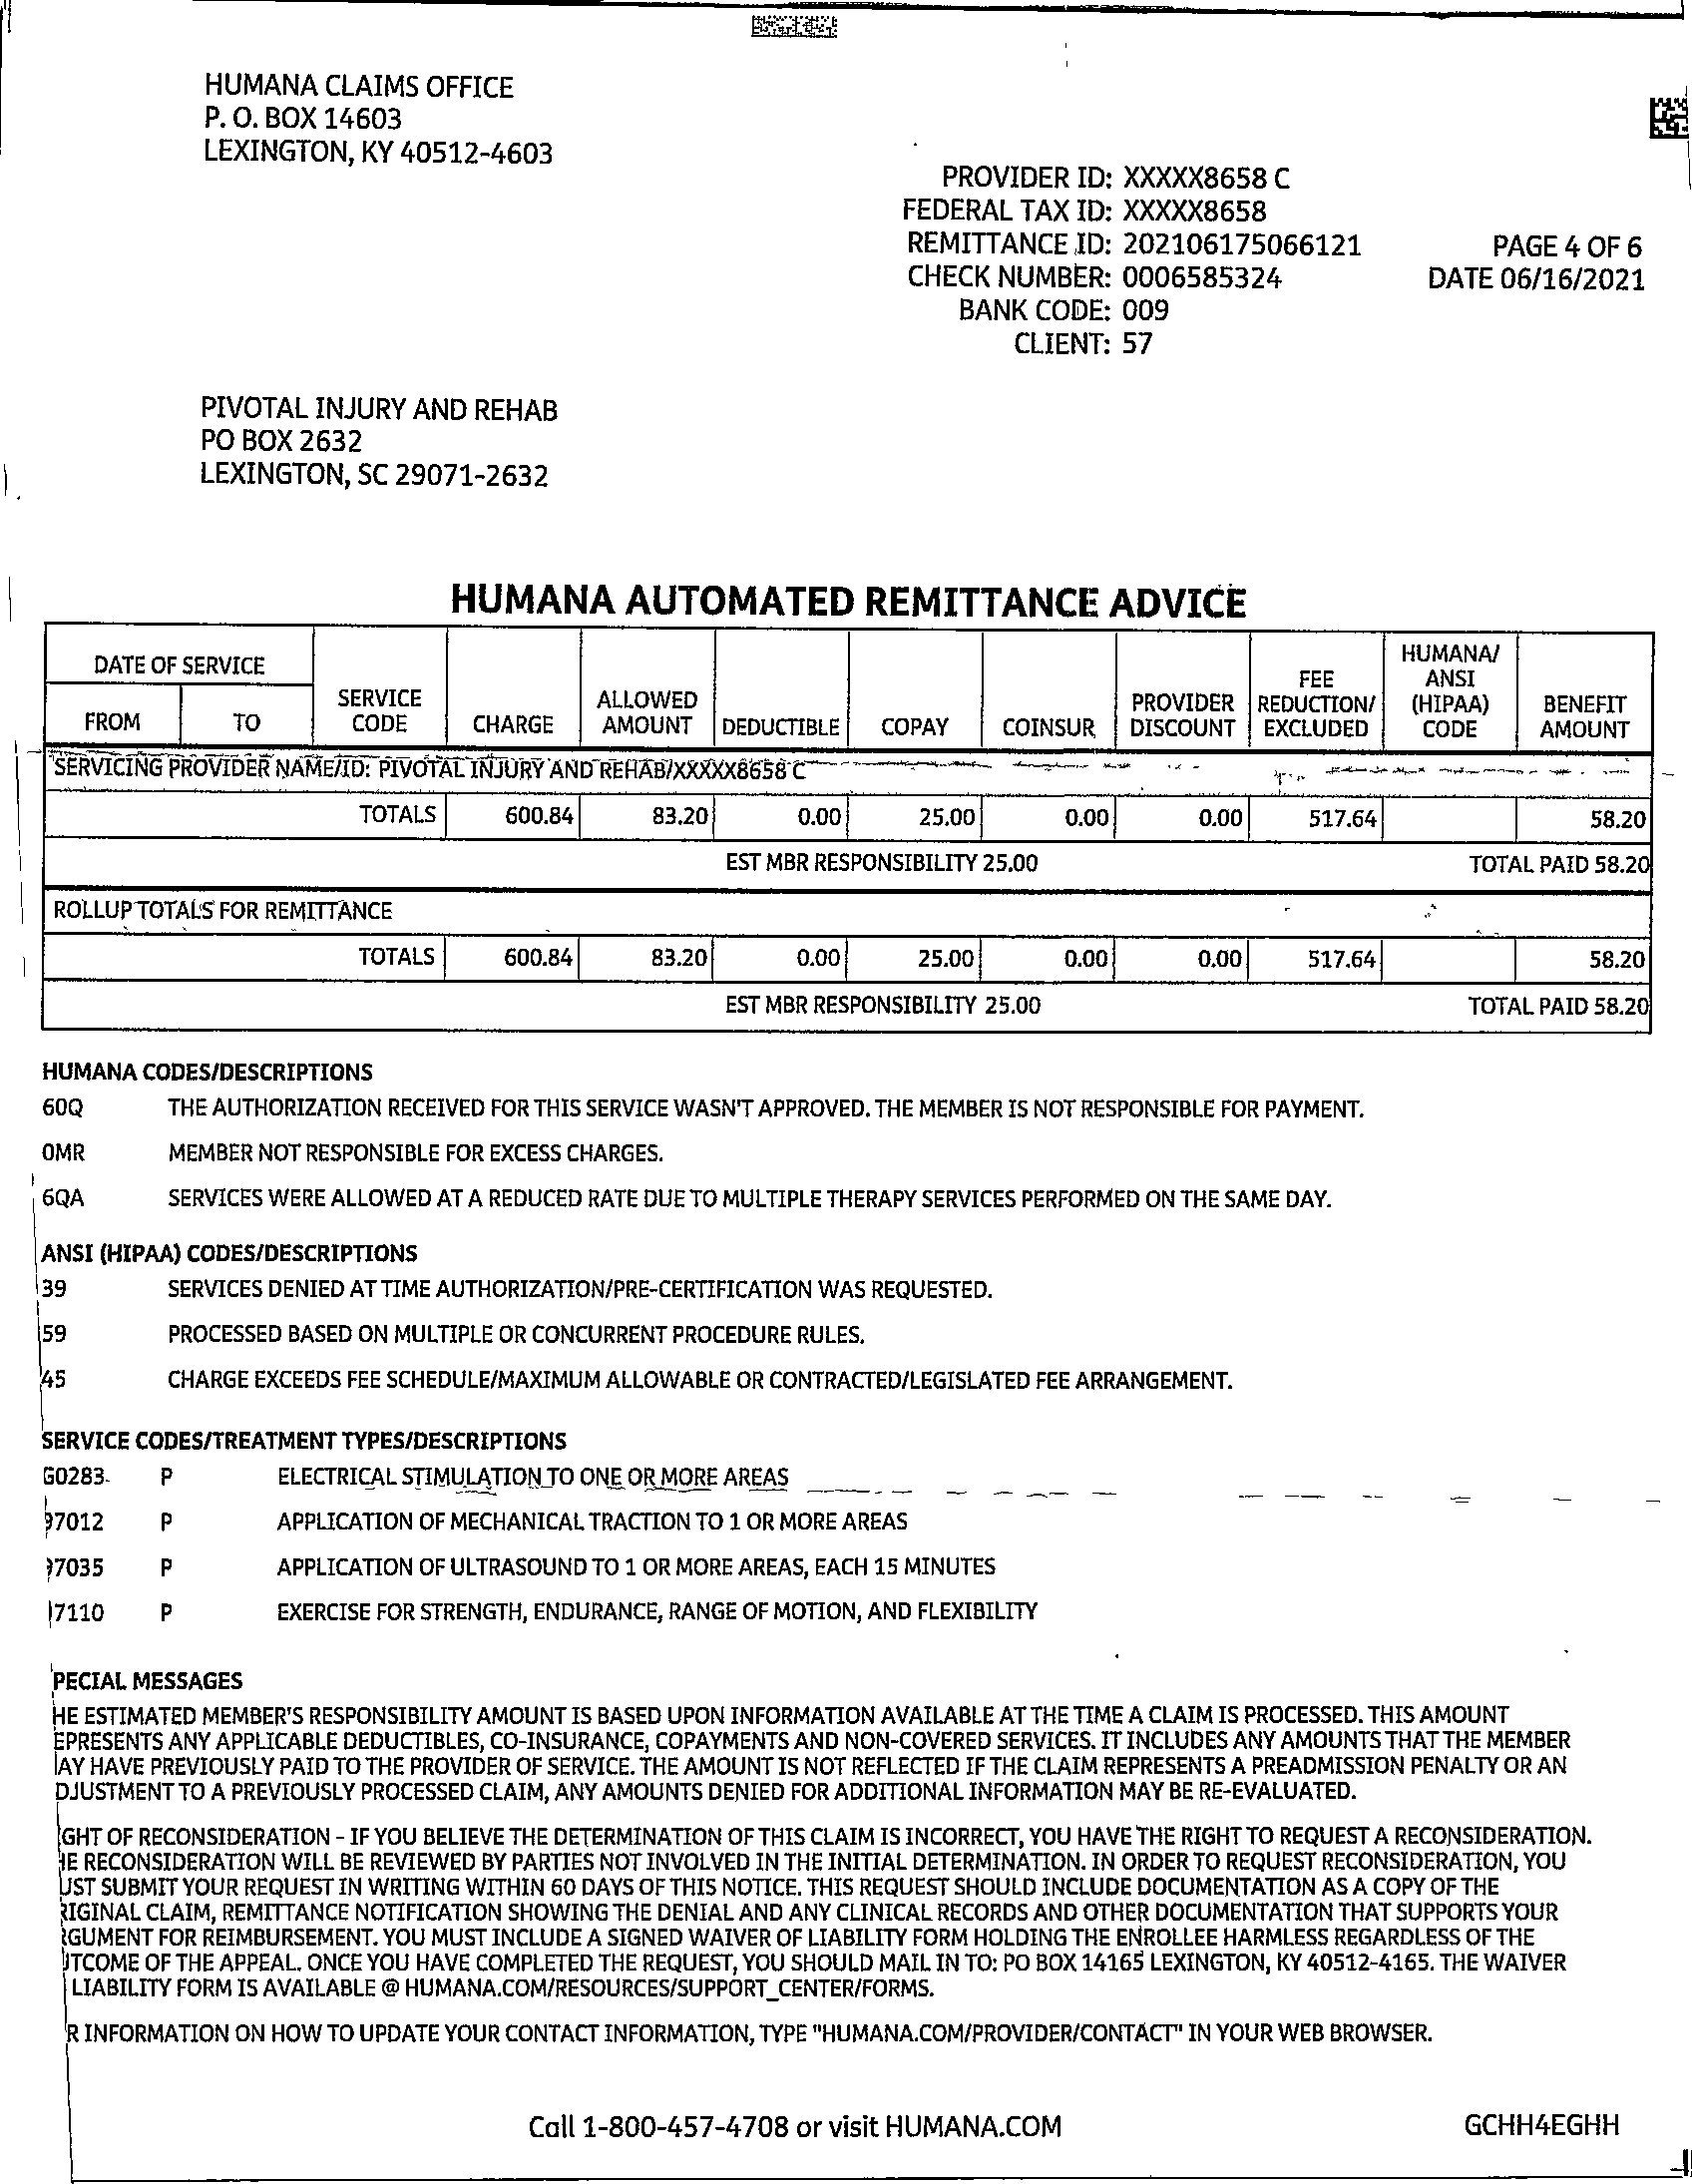data: (861, 131, 1377, 390), (165, 342, 595, 511), (186, 50, 609, 209)
table: (23, 620, 1671, 846)
